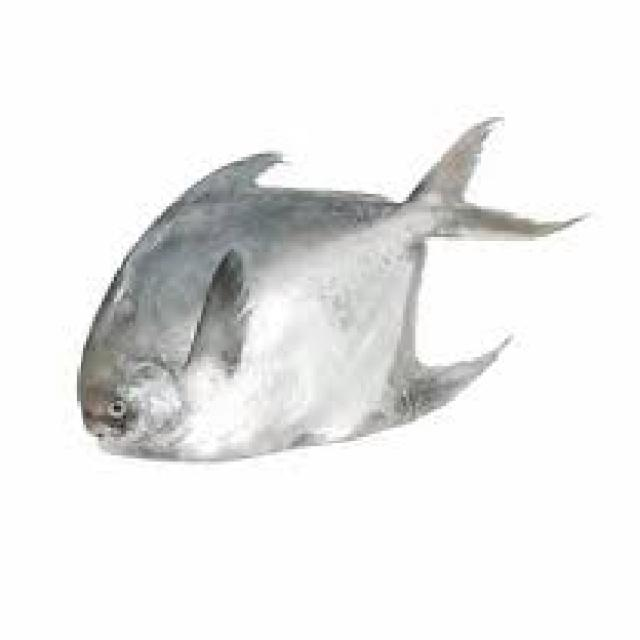pomfred: (77, 116, 600, 461)
